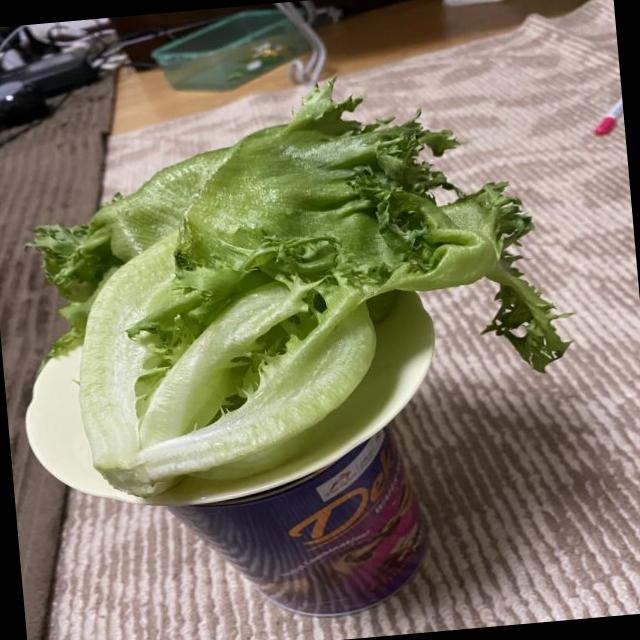Lettuce-Ready-to-Harvest: (34, 82, 567, 495)
